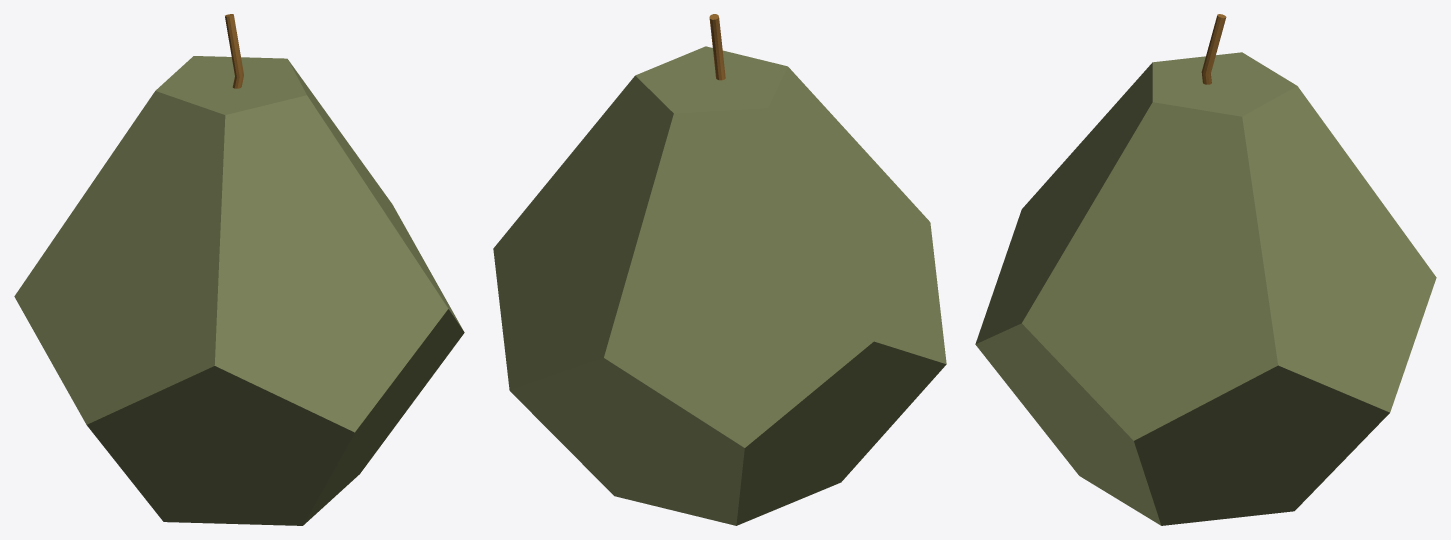
File: pear.fbx
3 renders of one model, left to right at view 1: azimuth 30°, elevation 25°; view 2: azimuth 150°, elevation 25°; view 3: azimuth 270°, elevation 25°, orthographic.
Visible parts, largest first — view 1: pPlatonic7; view 2: pPlatonic7; view 3: pPlatonic7.
Boxes of the visible parts, x1,y1,x2,y2 form: pPlatonic7: [14, 14, 464, 525]; pPlatonic7: [493, 14, 946, 525]; pPlatonic7: [975, 14, 1436, 525].
Size of the model in its own units: 1.87 by 2.2 by 1.97.
Materials: 1 (1 with a texture image).
